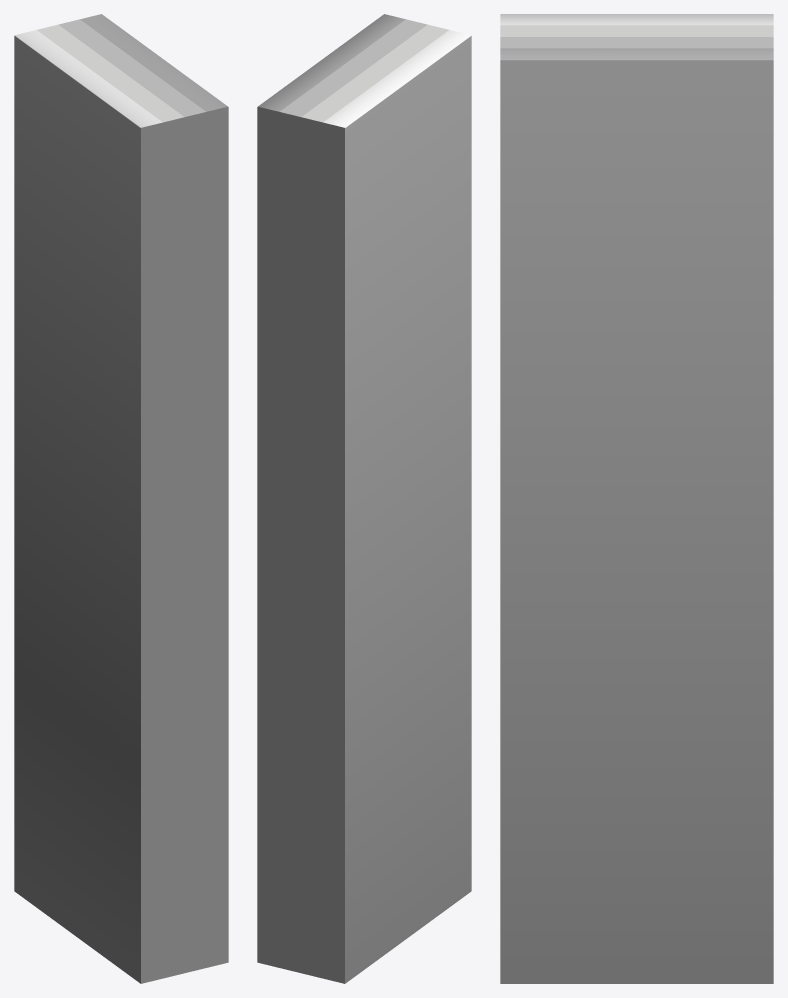
File: road01.FBX
3 renders of one model, left to right at view 1: azimuth 30°, elevation 25°; view 2: azimuth 150°, elevation 25°; view 3: azimuth 270°, elevation 25°, orthographic. The views are drawn at different scales.
Visible parts, largest first — view 1: road01; view 2: road01; view 3: road01.
Boxes of the visible parts, left/top/right/bottom form: road01: left=14, top=14, right=228, bottom=983; road01: left=257, top=14, right=471, bottom=983; road01: left=500, top=14, right=773, bottom=983.
Bounding box in the file's own units: 12 × 112 × 30.
1 material, 1 textured.
